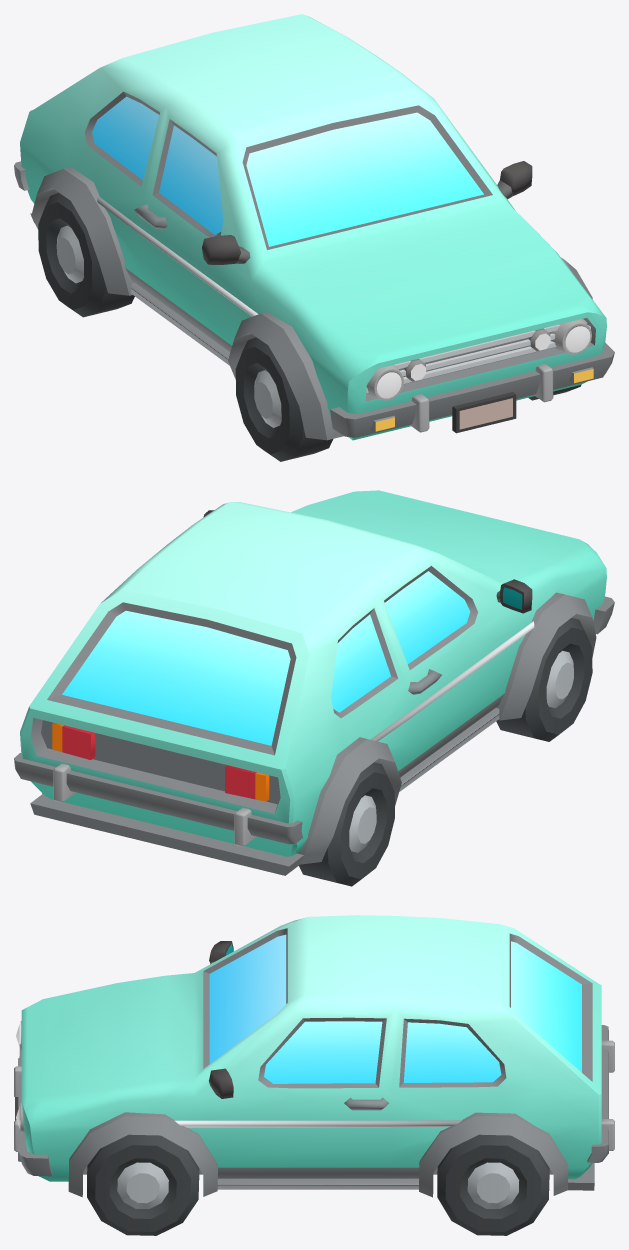
File: Car_11.glb
3 renders of one model, top to bottom at view 1: azimuth 30°, elevation 25°; view 2: azimuth 150°, elevation 25°; view 3: azimuth 270°, elevation 25°, orthographic. The views are drawn at different scales.
Parts seen in each view (by area): view 1: Car_11, Wheel_025, Wheel_026; view 2: Car_11, Wheel_026, Wheel_025; view 3: Car_11, Wheel_028, Wheel_027.
Part boxes in pixels (x1,y1,x2,y2): Car_11: (14, 14, 614, 440); Wheel_025: (235, 337, 333, 461); Wheel_026: (38, 193, 134, 317); Car_11: (14, 490, 614, 875); Wheel_026: (299, 762, 394, 886); Wheel_025: (496, 618, 592, 741); Car_11: (14, 915, 614, 1197); Wheel_028: (437, 1134, 549, 1235); Wheel_027: (87, 1134, 199, 1235).
Bounding box in the file's own units: 2.05 × 1.51 × 3.7.
2 materials, 2 textured.
